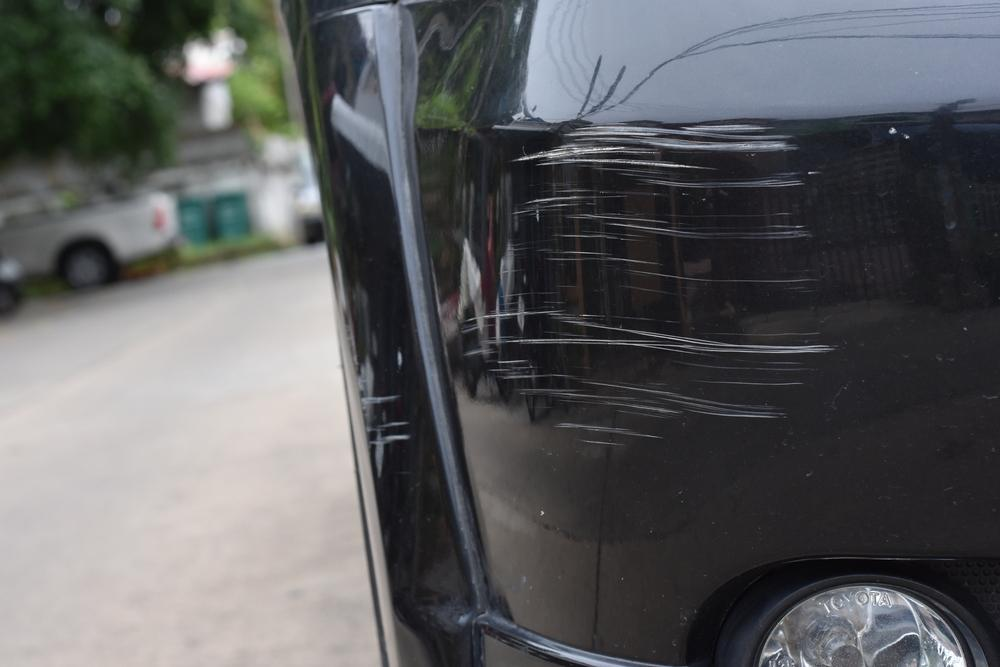scratch: (459, 113, 843, 451), (356, 380, 409, 485)
